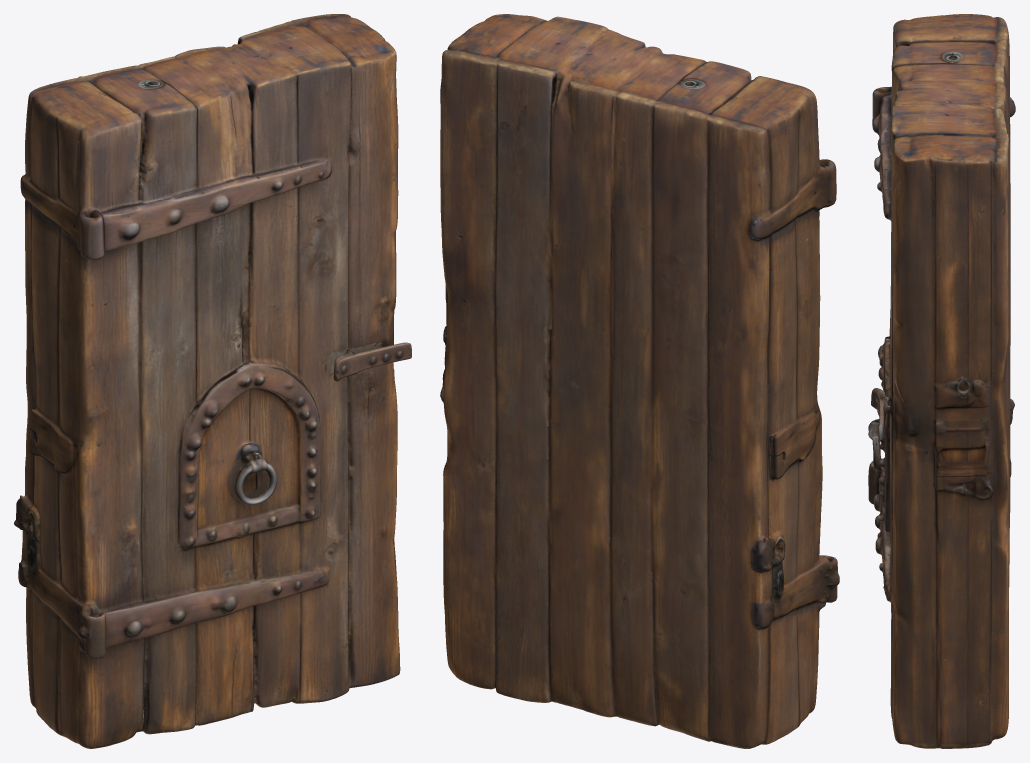
File: medeival_door_0825064449_texture.fbx
The picture shows the model from 3 angles, left to right: view 1: azimuth 30°, elevation 25°; view 2: azimuth 150°, elevation 25°; view 3: azimuth 270°, elevation 25°; orthographic projection. The views are drawn at different scales.
Parts seen in each view (by area): view 1: Mesh_0.005; view 2: Mesh_0.005; view 3: Mesh_0.005.
Part boxes in pixels (x1,y1,x2,y2): Mesh_0.005: (14,14,411,748); Mesh_0.005: (440,14,839,748); Mesh_0.005: (868,14,1015,748).
Bounding box in the file's own units: 113 × 199 × 44.51.
Materials: 1 (1 with a texture image).
